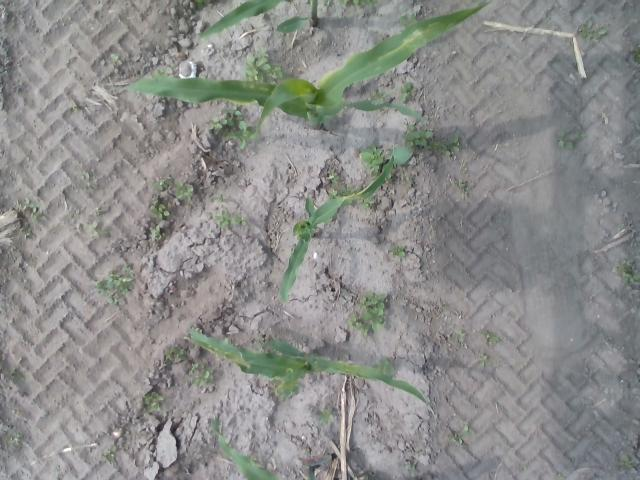Maize: (127, 1, 491, 135), (184, 326, 426, 404), (280, 142, 395, 306), (210, 416, 276, 480), (198, 0, 282, 39), (277, 0, 320, 34), (308, 464, 320, 480)
Weeds: (209, 104, 260, 150), (348, 288, 390, 341), (90, 261, 136, 309), (247, 44, 286, 82), (14, 197, 46, 236), (154, 175, 194, 202), (358, 143, 384, 177), (432, 130, 462, 158), (400, 124, 433, 147), (213, 208, 248, 229), (613, 258, 640, 284), (85, 220, 110, 244), (164, 345, 193, 365), (189, 363, 212, 388), (272, 380, 298, 402), (142, 390, 166, 413), (148, 198, 170, 222), (448, 177, 472, 198), (581, 20, 609, 38), (100, 54, 122, 74), (98, 444, 118, 466), (80, 169, 99, 191), (557, 130, 574, 153), (317, 407, 336, 426), (338, 0, 378, 8), (68, 96, 88, 112), (374, 358, 395, 372), (358, 199, 379, 213), (404, 459, 421, 476), (400, 82, 413, 104), (252, 330, 266, 350), (371, 88, 388, 104), (398, 12, 415, 28), (151, 224, 165, 243), (6, 432, 22, 448), (482, 330, 500, 344), (189, 0, 214, 10), (328, 169, 342, 186), (390, 244, 408, 257), (10, 368, 28, 381), (453, 330, 467, 344), (618, 456, 634, 468), (151, 68, 173, 76), (478, 352, 488, 369), (90, 206, 104, 218), (448, 433, 463, 444), (340, 187, 360, 195), (216, 192, 228, 204), (359, 471, 374, 480), (326, 189, 338, 199), (462, 426, 474, 436), (634, 44, 640, 64), (577, 130, 587, 140), (554, 472, 566, 480), (322, 0, 332, 8), (520, 464, 526, 472)
